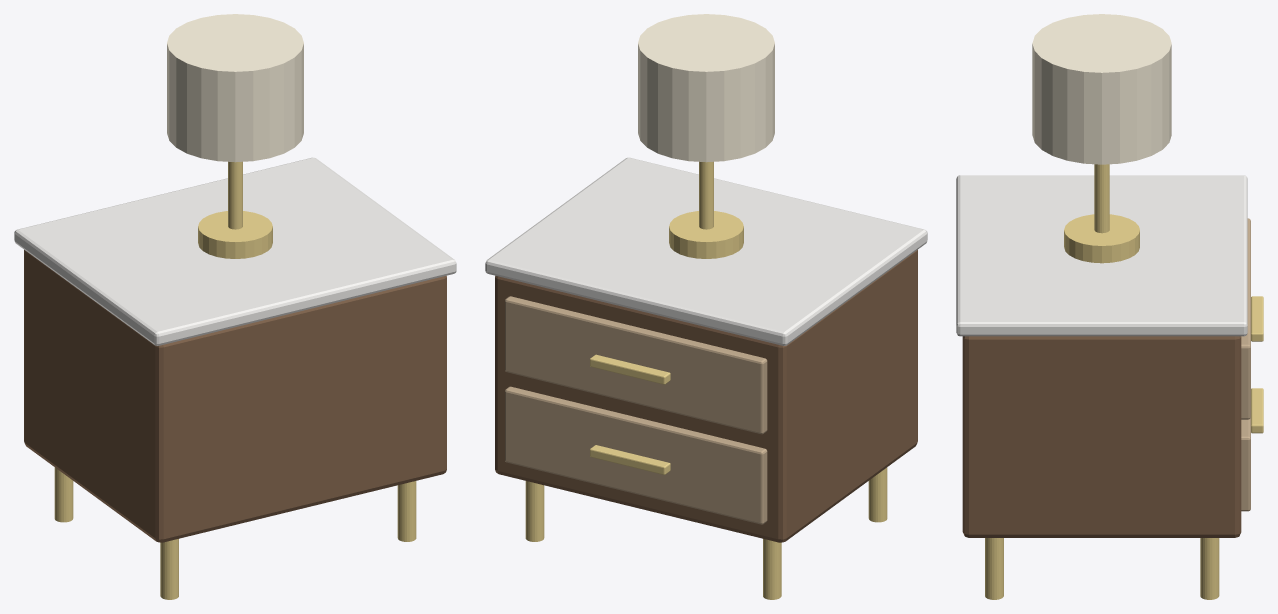
Rendered from komodin.glb.
3 views of the same model, side by side, from view 1: azimuth 30°, elevation 25°; view 2: azimuth 150°, elevation 25°; view 3: azimuth 270°, elevation 25° (orthographic).
Parts seen in each view (by area): view 1: NS_Body, NS_Top, Lamp_Shade, Lamp_Base, NS_Leg.002, NS_Leg, Lamp_Stem, NS_Leg.001; view 2: NS_Top, NS_Body, NS_Drawer_0, NS_Drawer_1, Lamp_Shade, Lamp_Base, NS_Leg.003, NS_Leg.001, NS_Handle_0, NS_Handle_1, Lamp_Stem, NS_Leg; view 3: NS_Body, NS_Top, Lamp_Shade, Lamp_Base, NS_Drawer_1, NS_Leg.003, NS_Leg.002, Lamp_Stem, NS_Drawer_0, NS_Handle_1, NS_Handle_0.
Boxes of the visible parts, <box> form: NS_Body: <box>24,250,446,542</box>; NS_Top: <box>14,157,456,345</box>; Lamp_Shade: <box>167,14,303,162</box>; Lamp_Base: <box>198,211,272,258</box>; NS_Leg.002: <box>397,481,416,541</box>; NS_Leg: <box>160,539,178,599</box>; Lamp_Stem: <box>228,161,242,229</box>; NS_Leg.001: <box>54,467,73,522</box>; NS_Top: <box>485,157,927,345</box>; NS_Body: <box>495,250,917,542</box>; NS_Drawer_0: <box>505,386,767,524</box>; NS_Drawer_1: <box>505,296,767,434</box>; Lamp_Shade: <box>638,14,774,162</box>; Lamp_Base: <box>669,211,743,258</box>; NS_Leg.003: <box>525,481,544,541</box>; NS_Leg.001: <box>763,539,781,599</box>; NS_Handle_0: <box>590,445,670,474</box>; NS_Handle_1: <box>590,354,670,384</box>; Lamp_Stem: <box>699,161,713,229</box>; NS_Leg: <box>868,467,887,522</box>; NS_Body: <box>962,336,1241,537</box>; NS_Top: <box>956,175,1247,336</box>; Lamp_Shade: <box>1032,14,1171,164</box>; Lamp_Base: <box>1064,214,1139,263</box>; NS_Drawer_1: <box>1241,218,1250,419</box>; NS_Leg.003: <box>1200,538,1219,599</box>; NS_Leg.002: <box>985,538,1003,599</box>; Lamp_Stem: <box>1094,164,1109,233</box>; NS_Drawer_0: <box>1241,417,1250,511</box>; NS_Handle_1: <box>1251,296,1263,341</box>; NS_Handle_0: <box>1251,388,1263,433</box>.
Bounding box in the file's own units: 0.56 × 0.86 × 0.485.
